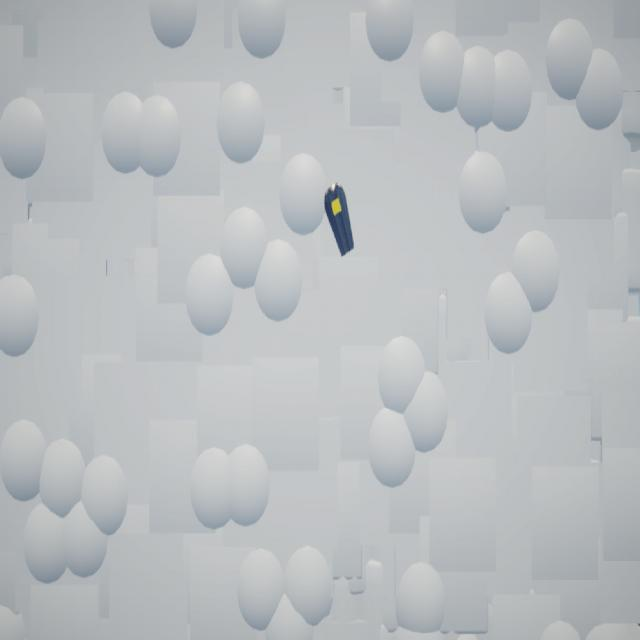handle_folk: (325, 184, 356, 258)
